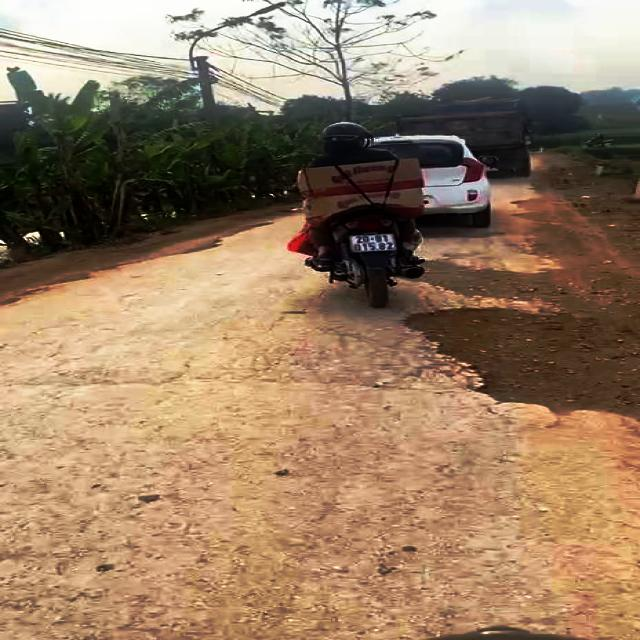pothole: (387, 299, 640, 431), (399, 259, 568, 308), (0, 269, 97, 311), (131, 237, 226, 264)
